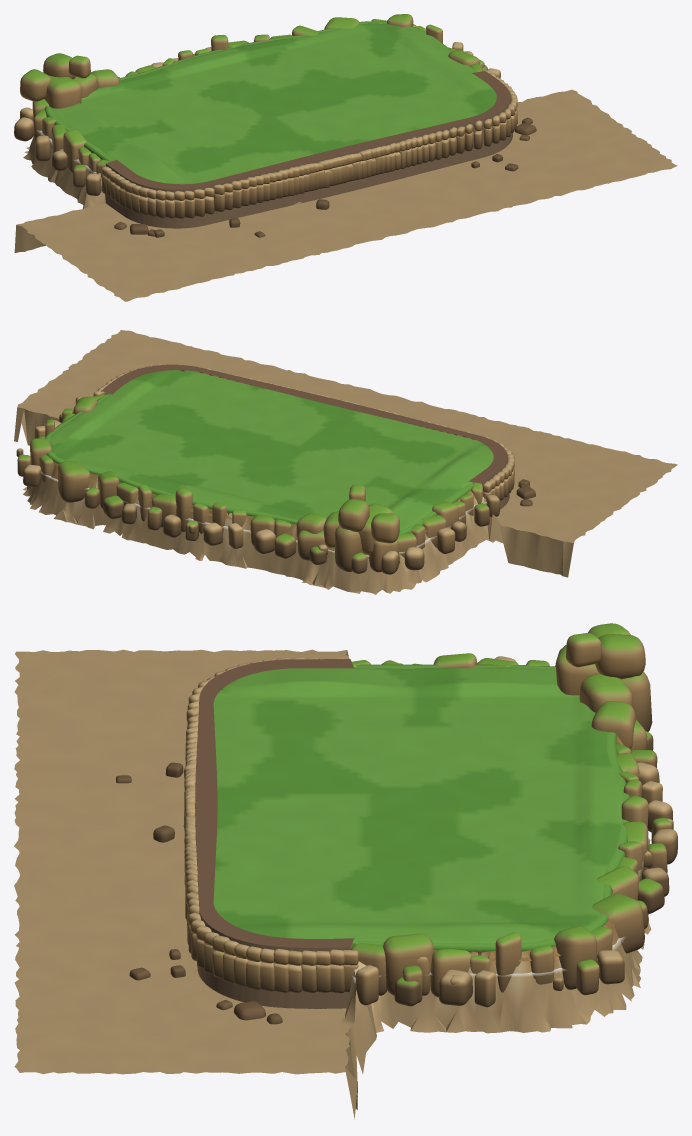
The model's file is valora-island-th.glb.
The picture shows the model from 3 angles, top to bottom: view 1: azimuth 30°, elevation 25°; view 2: azimuth 150°, elevation 25°; view 3: azimuth 270°, elevation 25°; orthographic projection. The views are drawn at different scales.
Parts seen in each view (by area): view 1: island; view 2: island; view 3: island.
Part boxes in pixels (bbox=[...]): island: bbox=[14, 14, 677, 301]; island: bbox=[14, 330, 677, 594]; island: bbox=[14, 623, 677, 1119].
Bounding box in the file's own units: 36.04 × 6.75 × 23.81.
